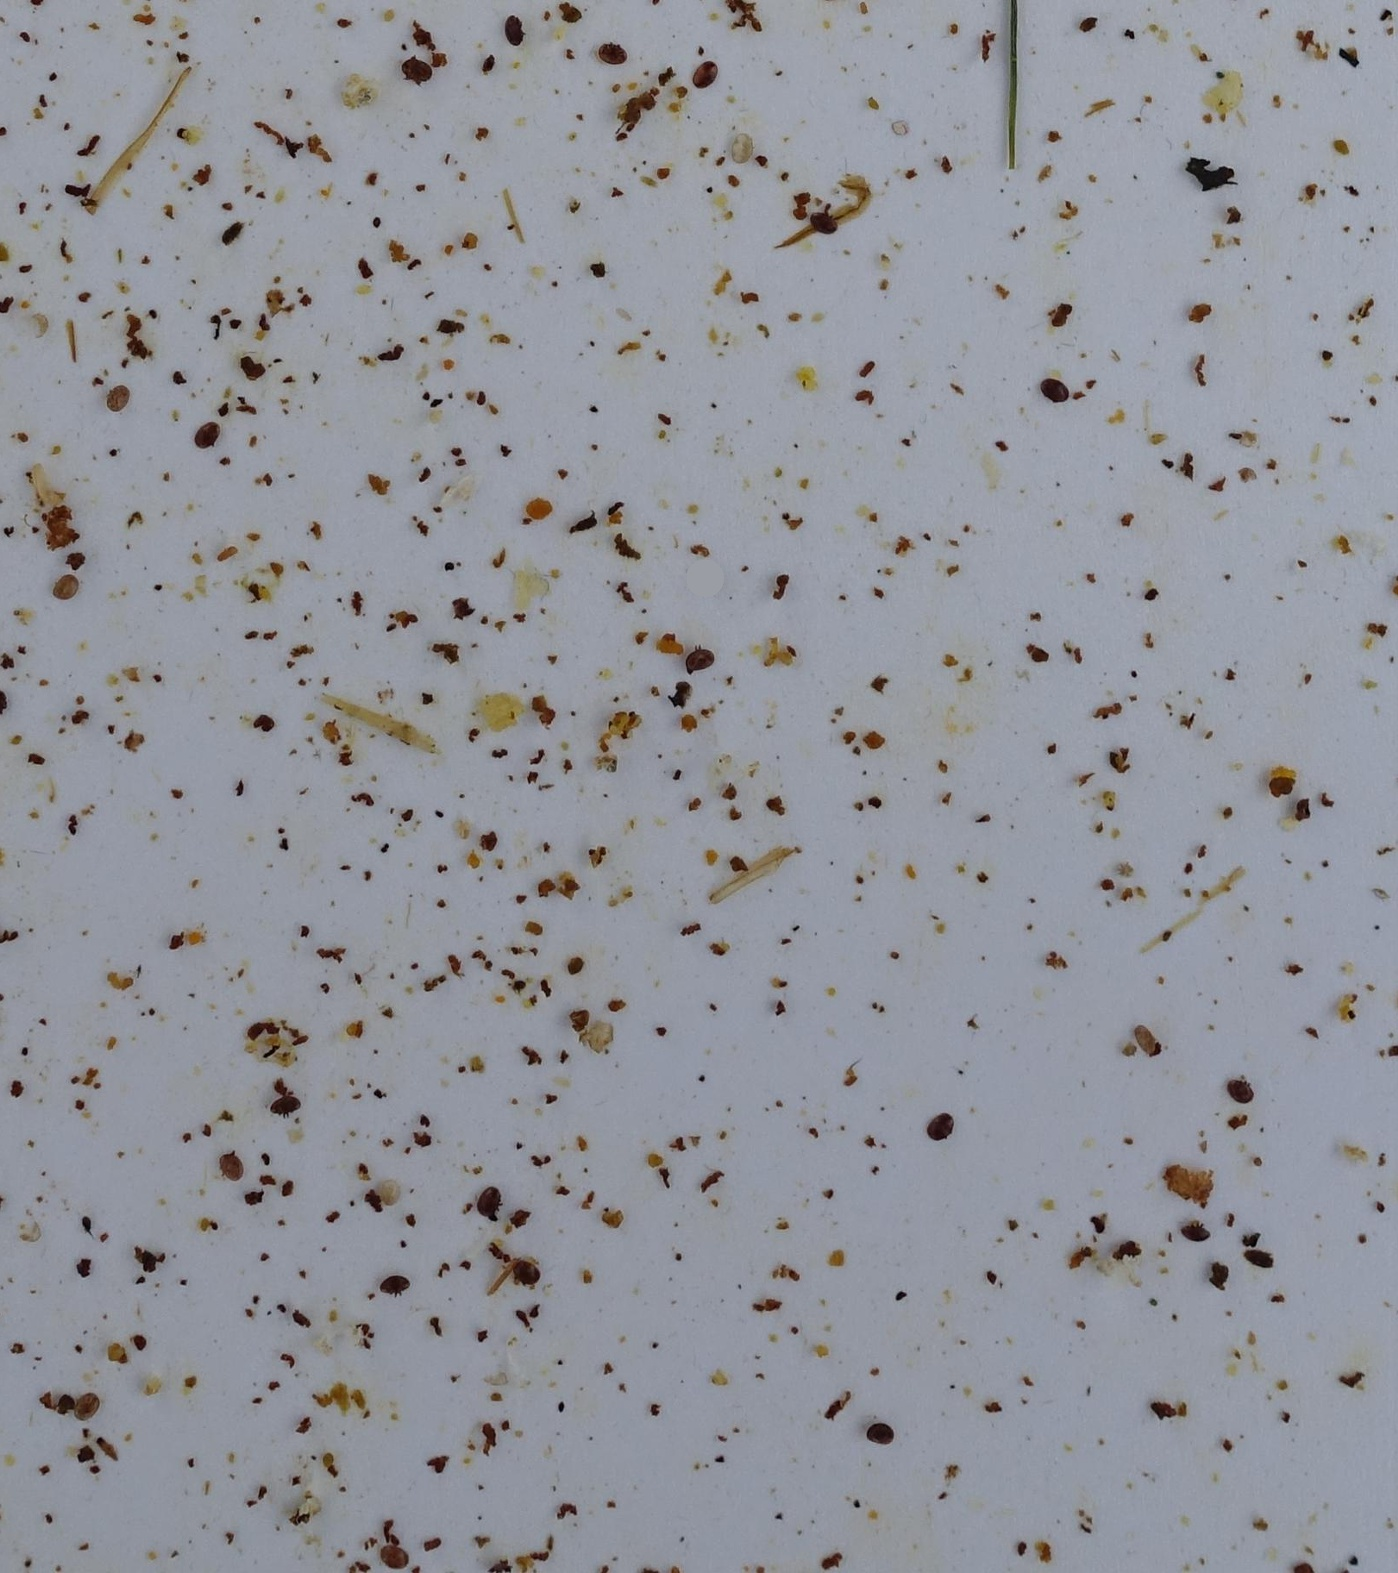Varroa: (96, 383, 135, 420), (1214, 1078, 1252, 1113), (269, 1085, 301, 1118), (922, 1108, 954, 1141), (66, 1385, 100, 1418), (213, 1152, 246, 1184), (511, 1256, 542, 1288), (402, 55, 433, 86), (499, 18, 530, 49), (861, 1414, 892, 1445), (1179, 1215, 1208, 1249), (376, 1269, 408, 1299), (475, 1191, 505, 1222), (686, 643, 715, 675), (1039, 378, 1069, 407), (600, 35, 630, 65), (192, 416, 220, 447), (686, 62, 712, 90), (808, 205, 835, 232)
